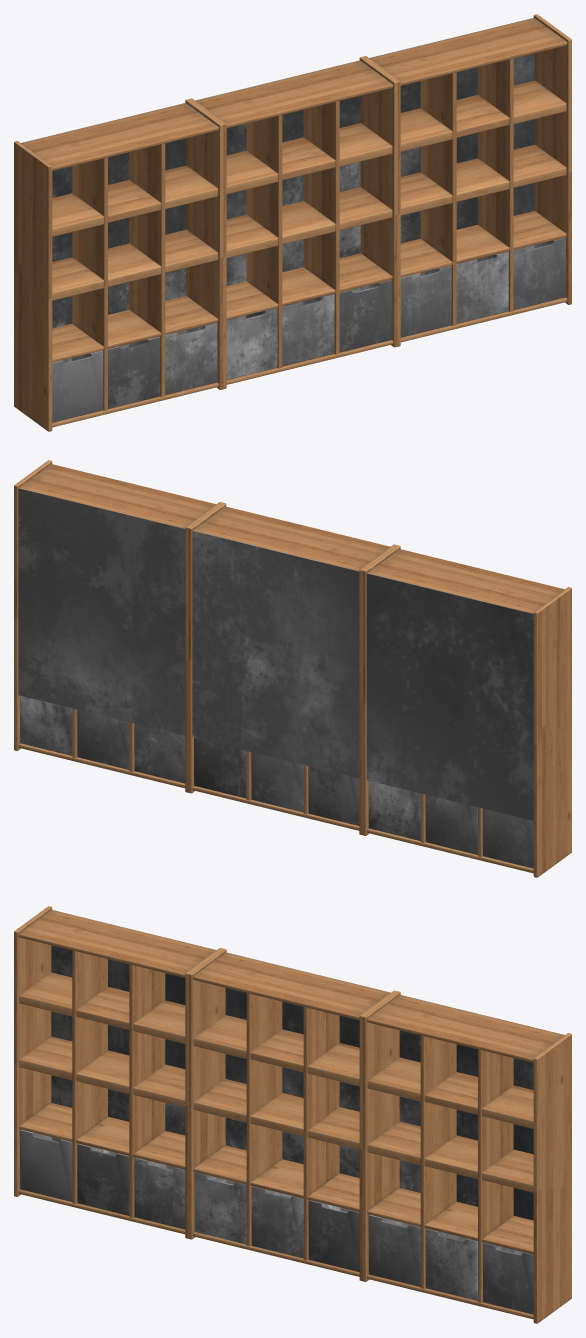
The picture shows the model from 3 angles, top to bottom: view 1: azimuth 30°, elevation 25°; view 2: azimuth 150°, elevation 25°; view 3: azimuth 330°, elevation 25°; orthographic projection.
Visible parts, largest first — view 1: wooden_display_shelves_01.002, wooden_display_shelves_01, wooden_display_shelves_01.001, Cube.001, Cube, Cube.002, wooden_display_shelves_01_drawer_02, wooden_display_shelves_01_drawer_03, wooden_display_shelves_01_drawer_03.001, wooden_display_shelves_01_drawer_02.001, wooden_display_shelves_01_drawer_02.002, wooden_display_shelves_01_drawer_03.002 (+3 smaller); view 2: Cube.001, Cube, Cube.002, wooden_display_shelves_01.002, wooden_display_shelves_01.001, wooden_display_shelves_01, wooden_display_shelves_01_drawer_03, wooden_display_shelves_01_drawer_02.002, wooden_display_shelves_01_drawer_03.001, wooden_display_shelves_01_drawer_02, wooden_display_shelves_01_drawer_02.001, wooden_display_shelves_01_drawer_03.002 (+3 smaller); view 3: wooden_display_shelves_01.001, wooden_display_shelves_01, wooden_display_shelves_01.002, Cube.002, Cube, Cube.001, wooden_display_shelves_01_drawer_01, wooden_display_shelves_01_drawer_01.002, wooden_display_shelves_01_drawer_02, wooden_display_shelves_01_drawer_02.001, wooden_display_shelves_01_drawer_02.002, wooden_display_shelves_01_drawer_01.001 (+3 smaller).
Boxes of the visible parts, x1,y1,x2,y2 form: wooden_display_shelves_01.002: (14,99,223,431); wooden_display_shelves_01: (189,56,397,389); wooden_display_shelves_01.001: (363,14,571,346); Cube.001: (370,18,534,243); Cube: (195,60,360,285); Cube.002: (22,103,186,328); wooden_display_shelves_01_drawer_02: (282,294,334,366); wooden_display_shelves_01_drawer_03: (339,280,391,352); wooden_display_shelves_01_drawer_03.001: (513,237,565,309); wooden_display_shelves_01_drawer_02.001: (456,251,508,323); wooden_display_shelves_01_drawer_02.002: (108,336,160,408); wooden_display_shelves_01_drawer_03.002: (165,322,217,394); Cube.001: (18,488,185,735); Cube: (192,531,359,778); Cube.002: (366,573,533,820); wooden_display_shelves_01.002: (362,545,571,877); wooden_display_shelves_01.001: (14,460,222,792); wooden_display_shelves_01: (188,502,396,835); wooden_display_shelves_01_drawer_03: (194,738,246,798); wooden_display_shelves_01_drawer_02.002: (425,794,477,854); wooden_display_shelves_01_drawer_03.001: (20,695,72,755); wooden_display_shelves_01_drawer_02: (251,752,303,812); wooden_display_shelves_01_drawer_02.001: (77,709,129,769); wooden_display_shelves_01_drawer_03.002: (368,781,420,840); wooden_display_shelves_01.001: (362,991,571,1323); wooden_display_shelves_01: (188,948,396,1281); wooden_display_shelves_01.002: (14,906,222,1238); Cube.002: (51,910,215,1135); Cube: (225,952,390,1177); Cube.001: (399,995,563,1220); wooden_display_shelves_01_drawer_01: (194,1172,246,1244); wooden_display_shelves_01_drawer_01.002: (20,1129,72,1201); wooden_display_shelves_01_drawer_02: (251,1186,303,1258); wooden_display_shelves_01_drawer_02.001: (425,1228,477,1300); wooden_display_shelves_01_drawer_02.002: (77,1143,129,1215); wooden_display_shelves_01_drawer_01.001: (368,1214,420,1286).
Size of the model in its own units: 322 by 156 by 37.15.
